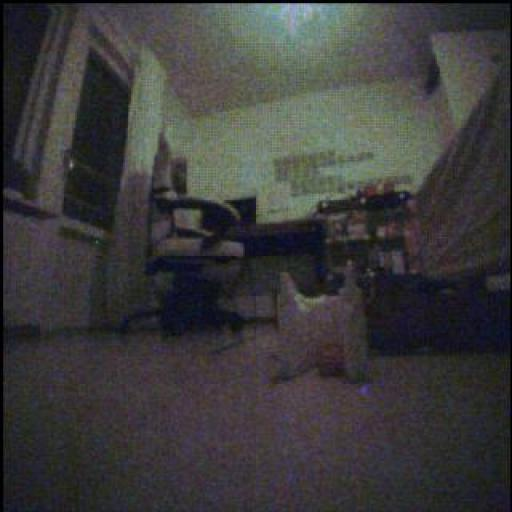basket: (315, 340, 345, 379)
